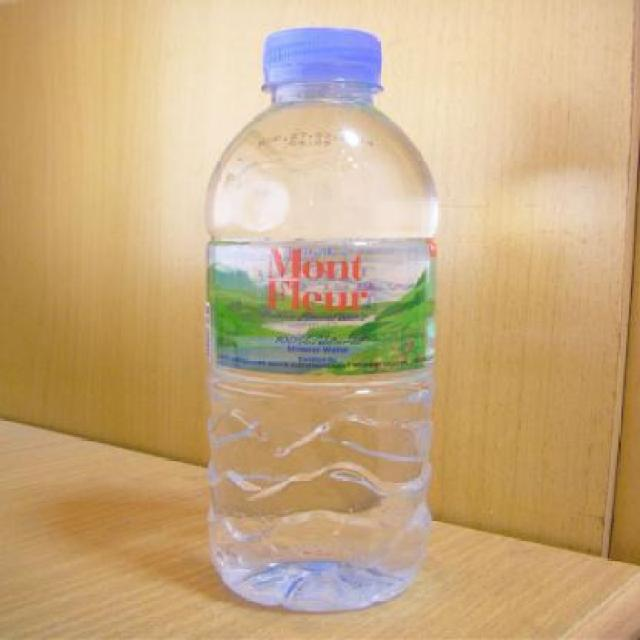bottle: (199, 16, 446, 612)
